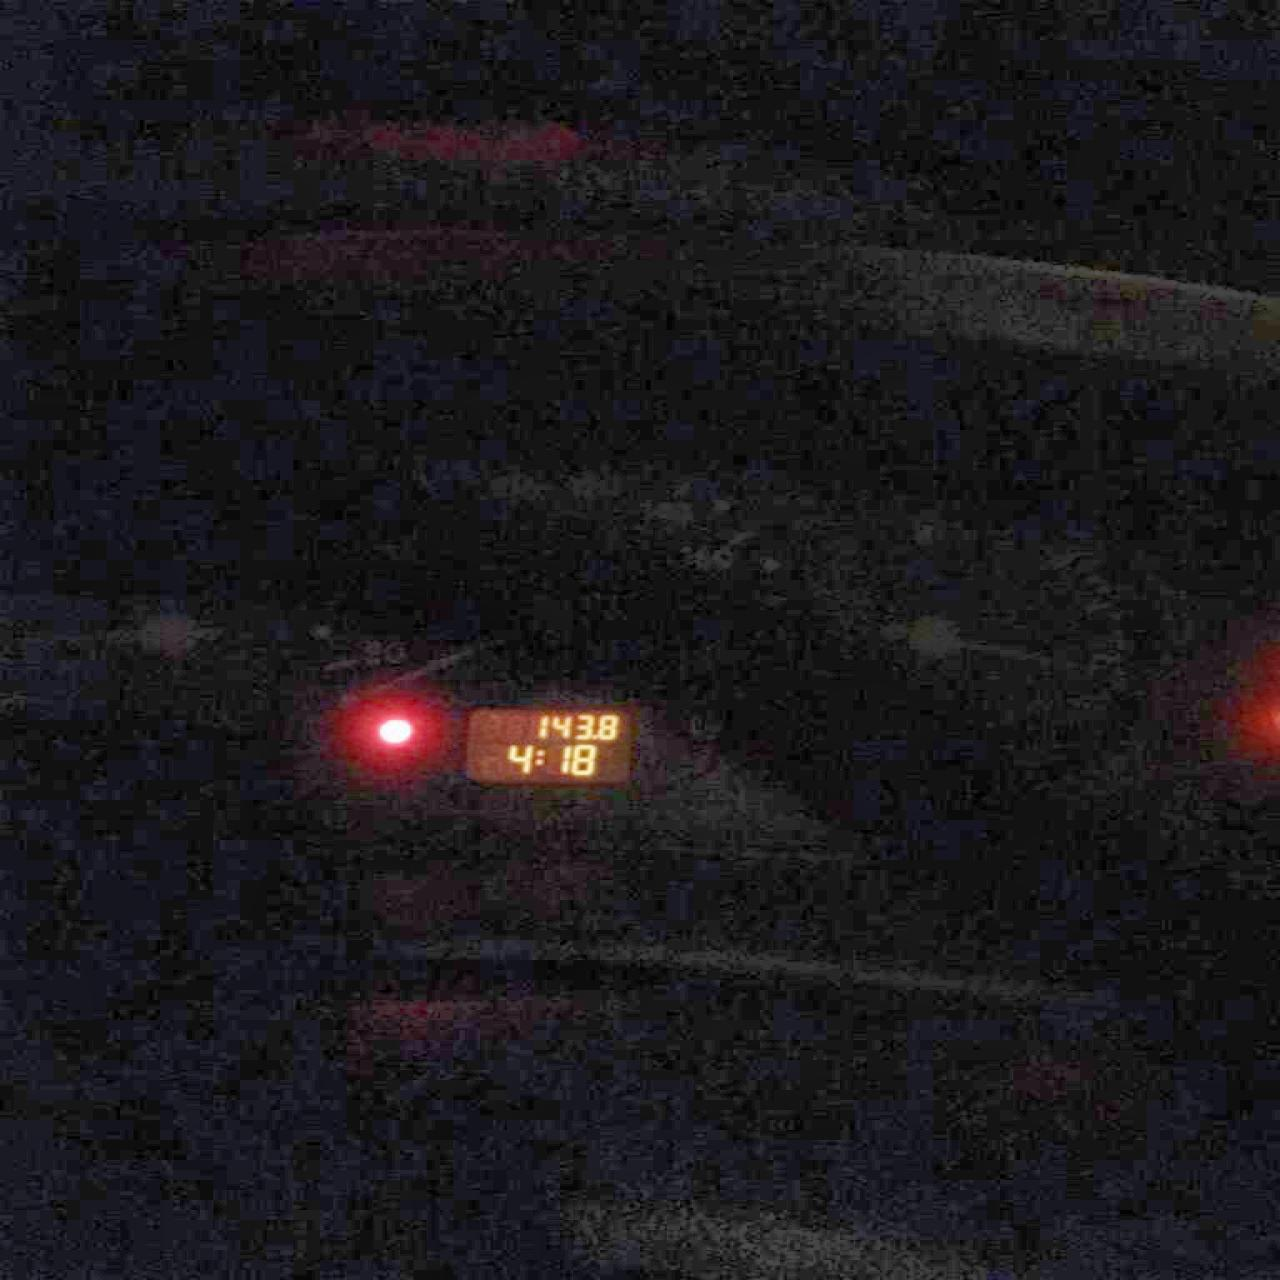-: (590, 733, 598, 740)
1: (557, 742, 570, 774), (532, 714, 549, 737)
3: (572, 713, 592, 738)
4: (503, 742, 532, 774), (549, 713, 572, 737)
8: (572, 742, 597, 776), (597, 713, 618, 740)
X: (532, 748, 545, 767)
odometer: (456, 700, 636, 788)
